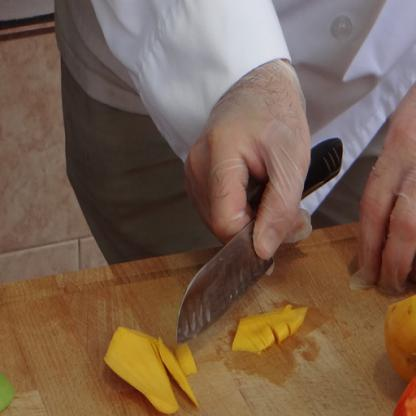knife: (174, 134, 342, 349)
